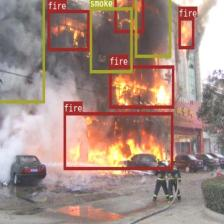fire: (64, 112, 172, 169), (109, 65, 174, 108), (47, 10, 89, 50), (114, 0, 143, 32), (178, 17, 194, 48)
smoke: (0, 0, 44, 102), (89, 7, 132, 73), (135, 0, 171, 57)
